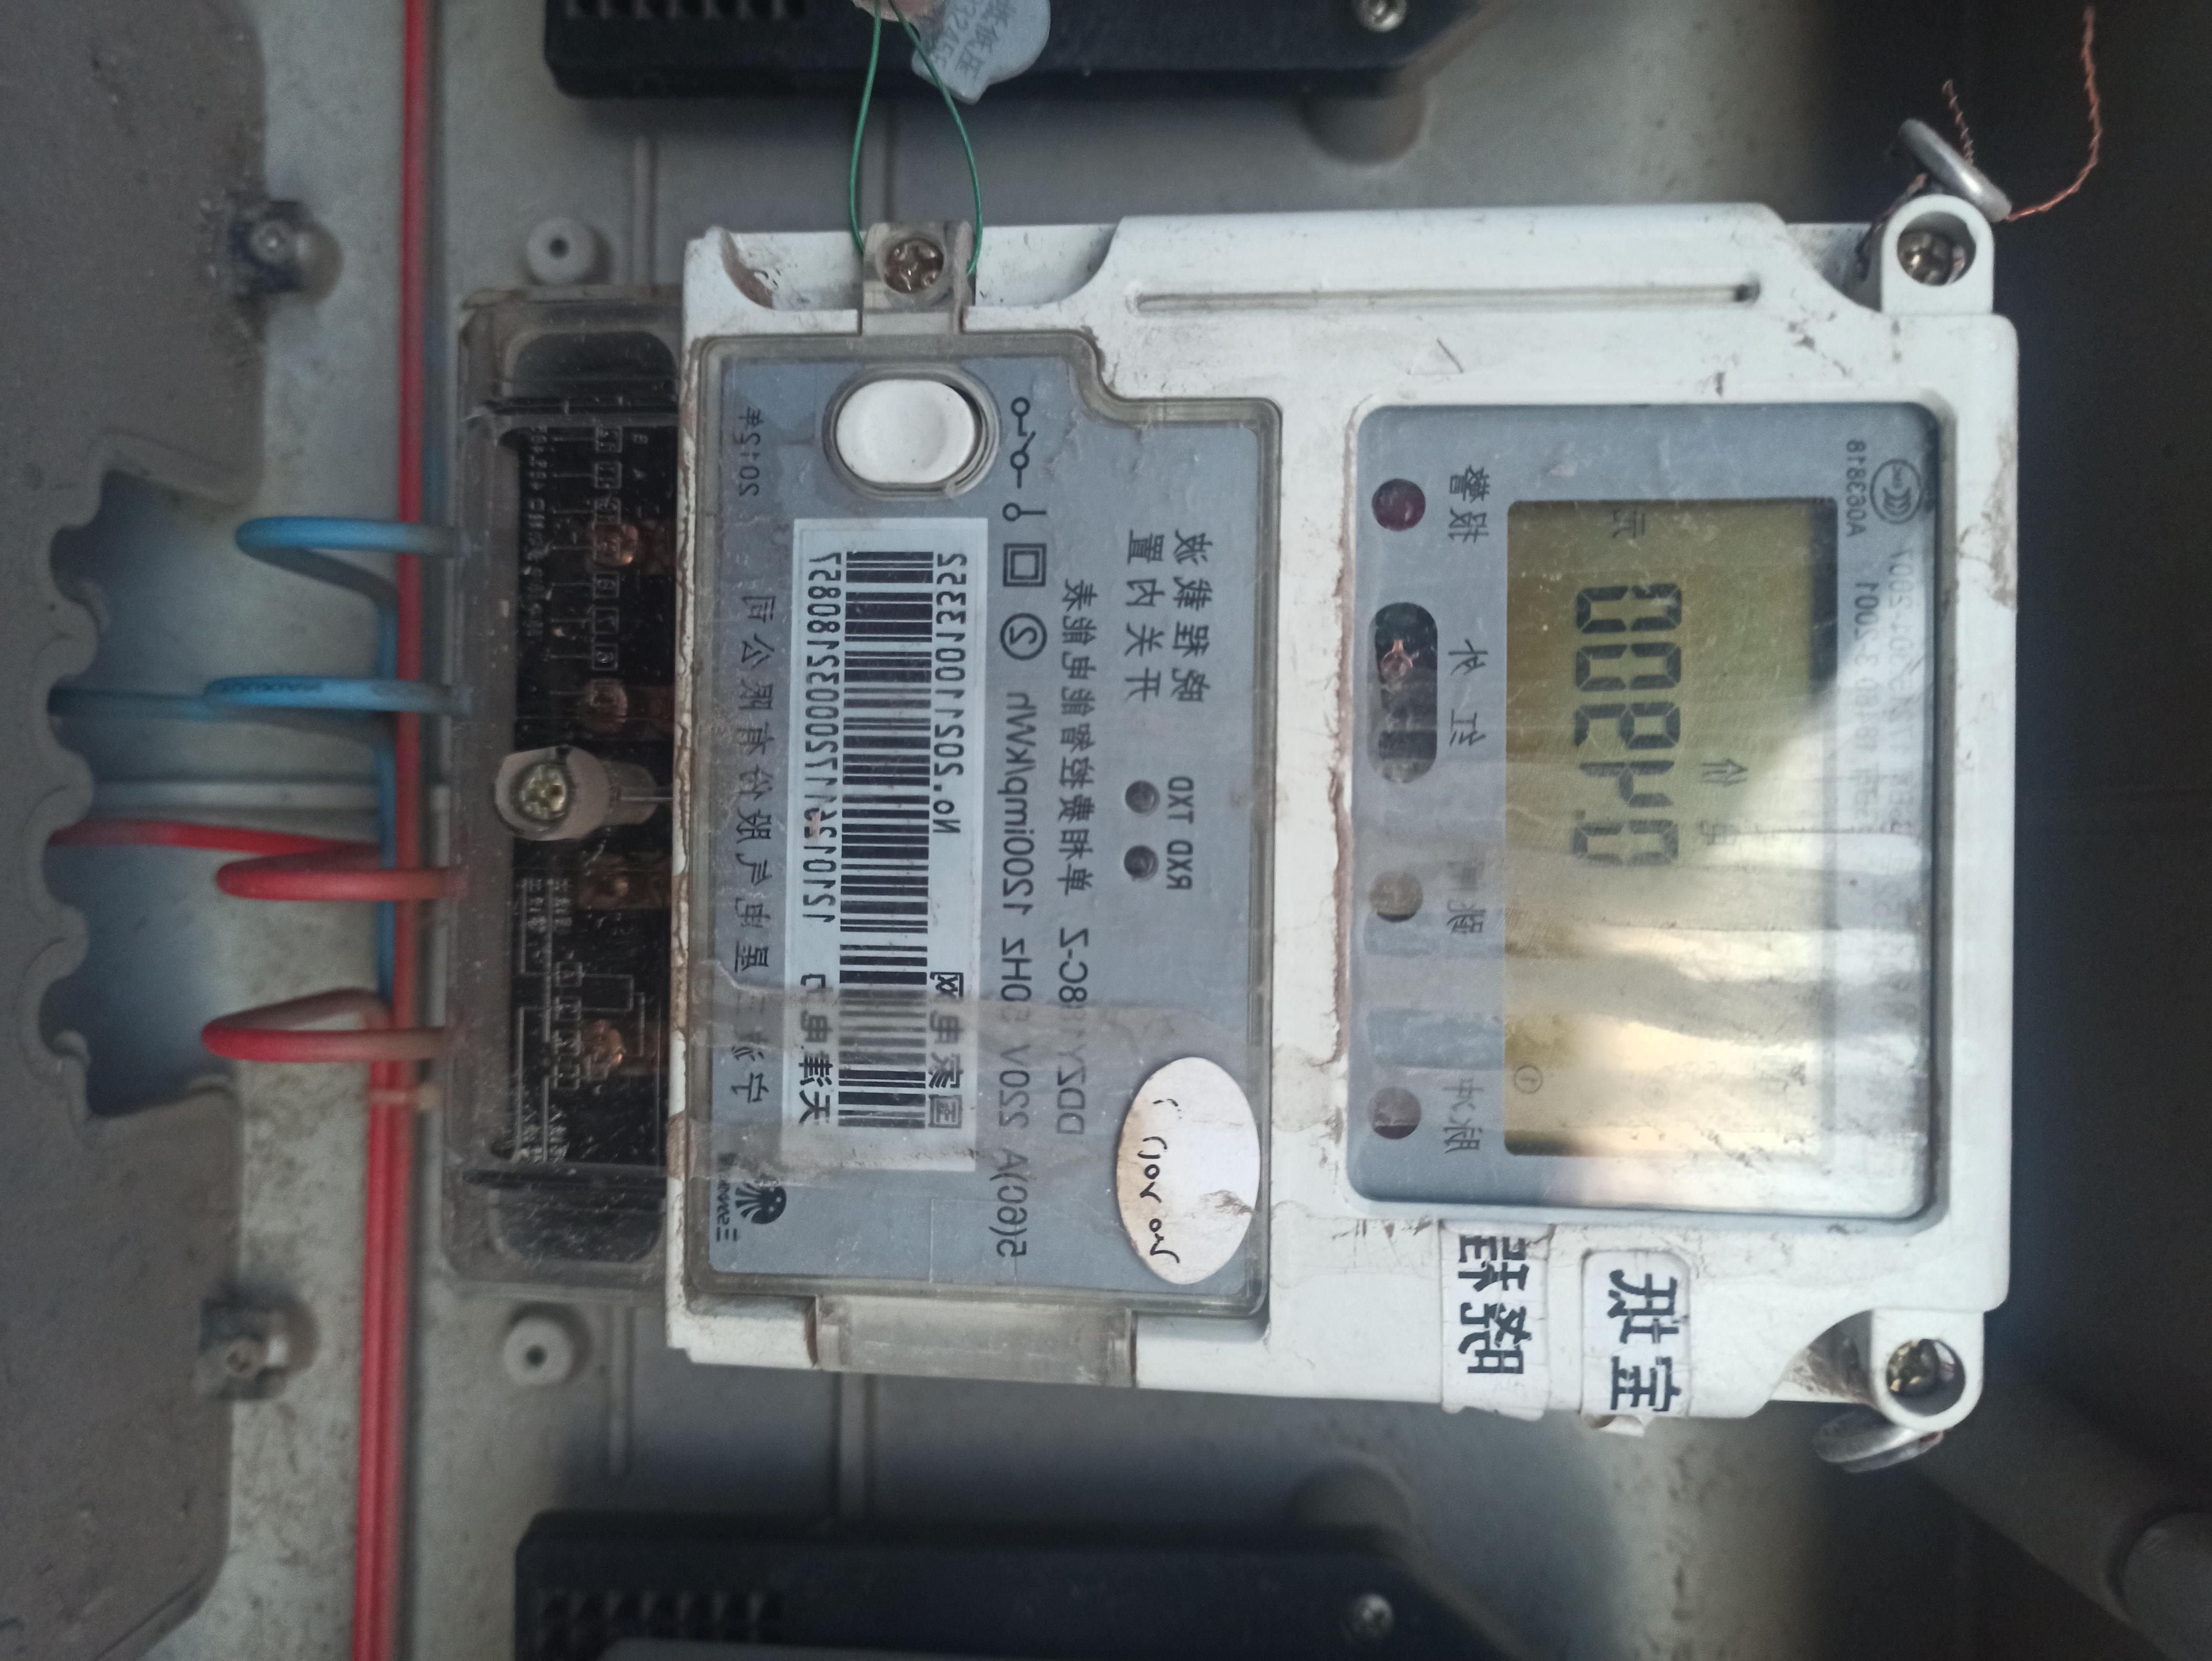digital: (682, 209, 2017, 1417)
